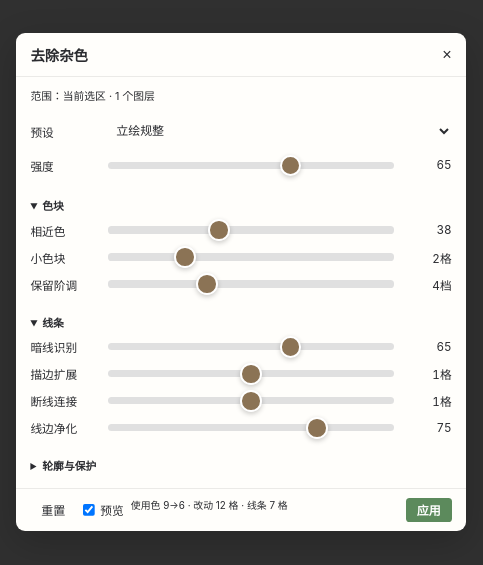
Scenario: 去除杂色工具窗 › 参数修改进入自定义；应用只发一次确认、窗口保留并把强度归零
Set the slider labelled "强度 65" to "72" at (310, 165), box [108,162,394,169]
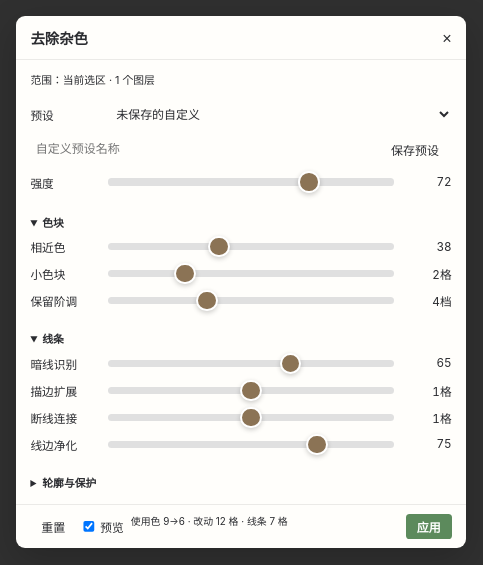
Expected: the dropdown labelled "预设" shows "未保存的自定义", [108,104,452,125]
Click the button "应用" at (429, 527), box [406,514,452,539]
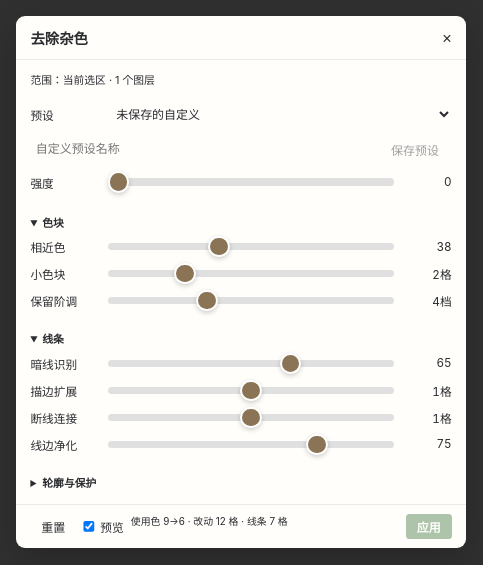
Expected: the label "预设" is shown, [30,101,452,128]
Expected: the text "0" is shown, [444,175,452,189]
Expected: the button "应用" is disabled, [406,514,452,539]
